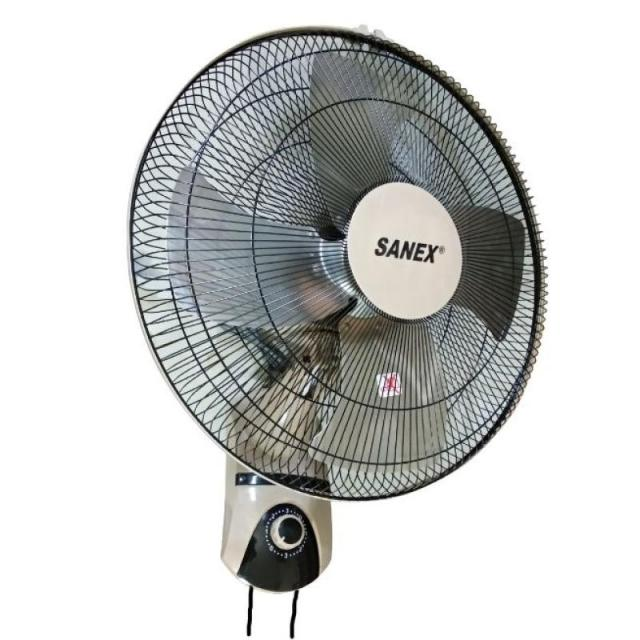fan: (111, 17, 552, 613)
